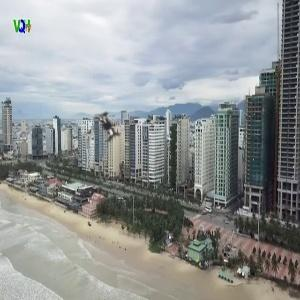drone: (56, 72, 160, 176)
